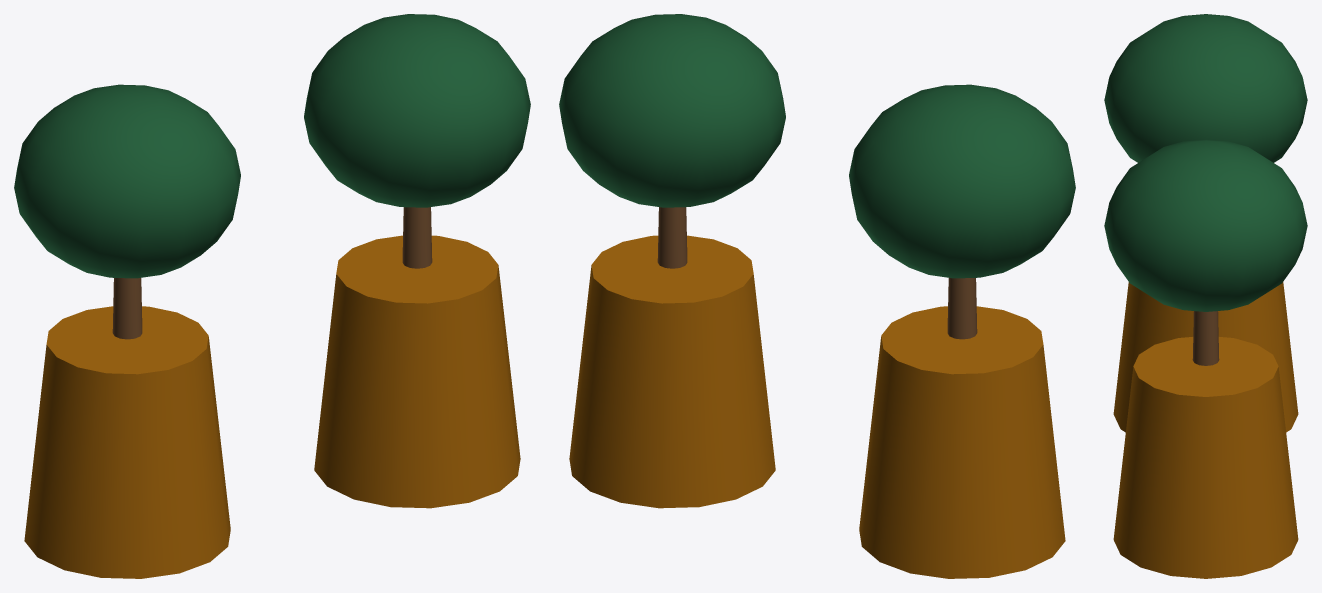
The picture shows the model from 3 angles, left to right: view 1: azimuth 30°, elevation 25°; view 2: azimuth 150°, elevation 25°; view 3: azimuth 270°, elevation 25°; orthographic projection. The views are drawn at different scales.
Parts seen in each view (by area): view 1: entry-planter-pair; view 2: entry-planter-pair; view 3: entry-planter-pair.
Boxes of the visible parts, left/top/right/bottom form: entry-planter-pair: left=14, top=14, right=530, bottom=578; entry-planter-pair: left=559, top=14, right=1075, bottom=578; entry-planter-pair: left=1104, top=14, right=1307, bottom=578.
Bounding box in the file's own units: 1.52 × 1.3 × 0.616.
